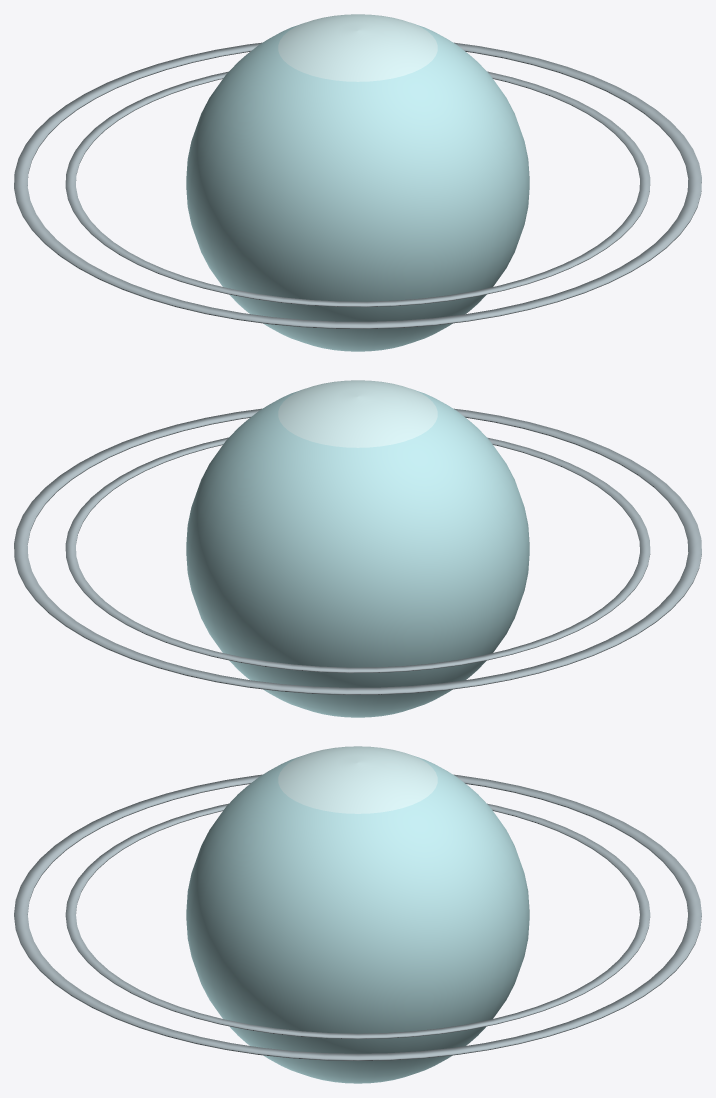
Rendered from planet-uranus.glb.
3 views of the same model, one above another, from view 1: azimuth 30°, elevation 25°; view 2: azimuth 150°, elevation 25°; view 3: azimuth 270°, elevation 25° (orthographic).
Parts seen in each view (by area): view 1: Uranus_Globe, Ring_Epsilon, Ring_Inner; view 2: Uranus_Globe, Ring_Epsilon, Ring_Inner; view 3: Uranus_Globe, Ring_Epsilon, Ring_Inner.
Boxes of the visible parts, bbox=[...] form: Uranus_Globe: bbox=[186, 14, 529, 351]; Ring_Epsilon: bbox=[14, 42, 701, 328]; Ring_Inner: bbox=[65, 71, 650, 307]; Uranus_Globe: bbox=[186, 380, 529, 717]; Ring_Epsilon: bbox=[14, 408, 701, 694]; Ring_Inner: bbox=[65, 437, 650, 673]; Uranus_Globe: bbox=[186, 746, 529, 1083]; Ring_Epsilon: bbox=[14, 774, 701, 1060]; Ring_Inner: bbox=[65, 803, 650, 1039].
Bounding box in the file's own units: 4 × 1.95 × 4.
